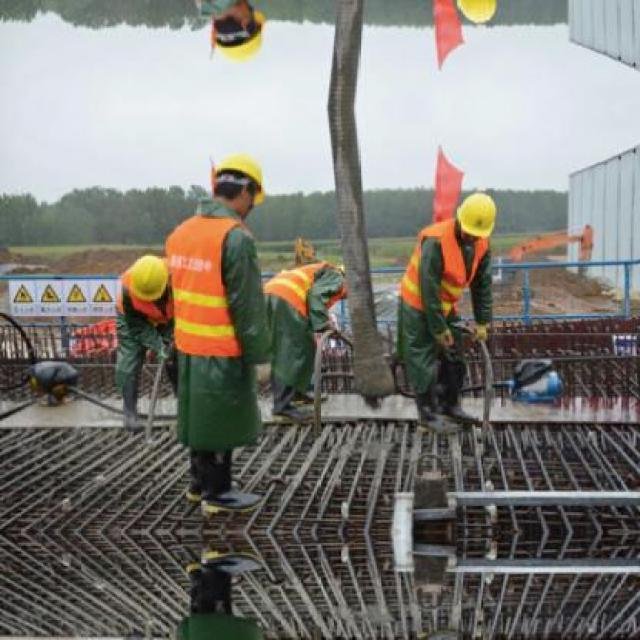reflective_jacket: (158, 209, 263, 371), (390, 222, 500, 333), (254, 256, 354, 336), (156, 610, 275, 639)
safety_helmet: (200, 141, 280, 211), (108, 246, 180, 308), (446, 185, 507, 245)
